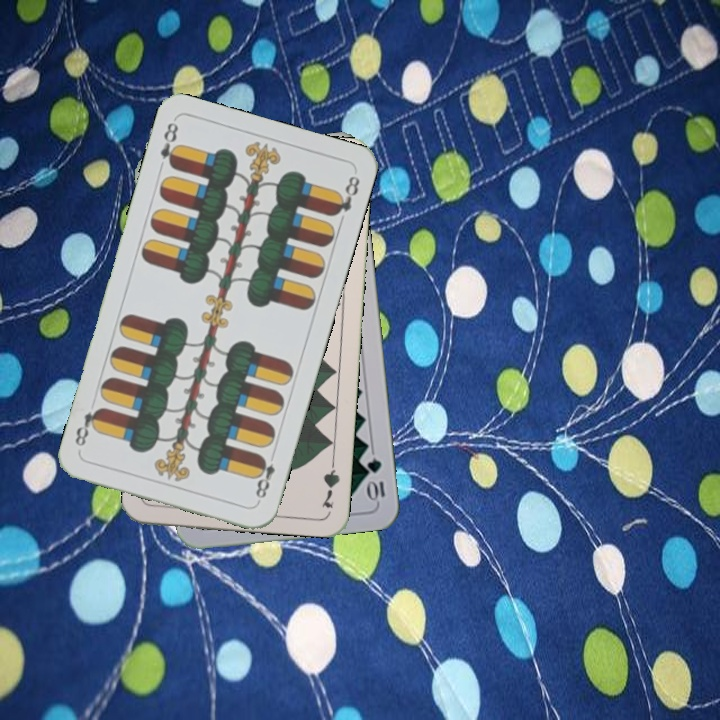E8: (251, 448, 278, 505), (156, 118, 183, 171)
G10: (363, 454, 388, 504)
G7: (317, 452, 342, 510)
